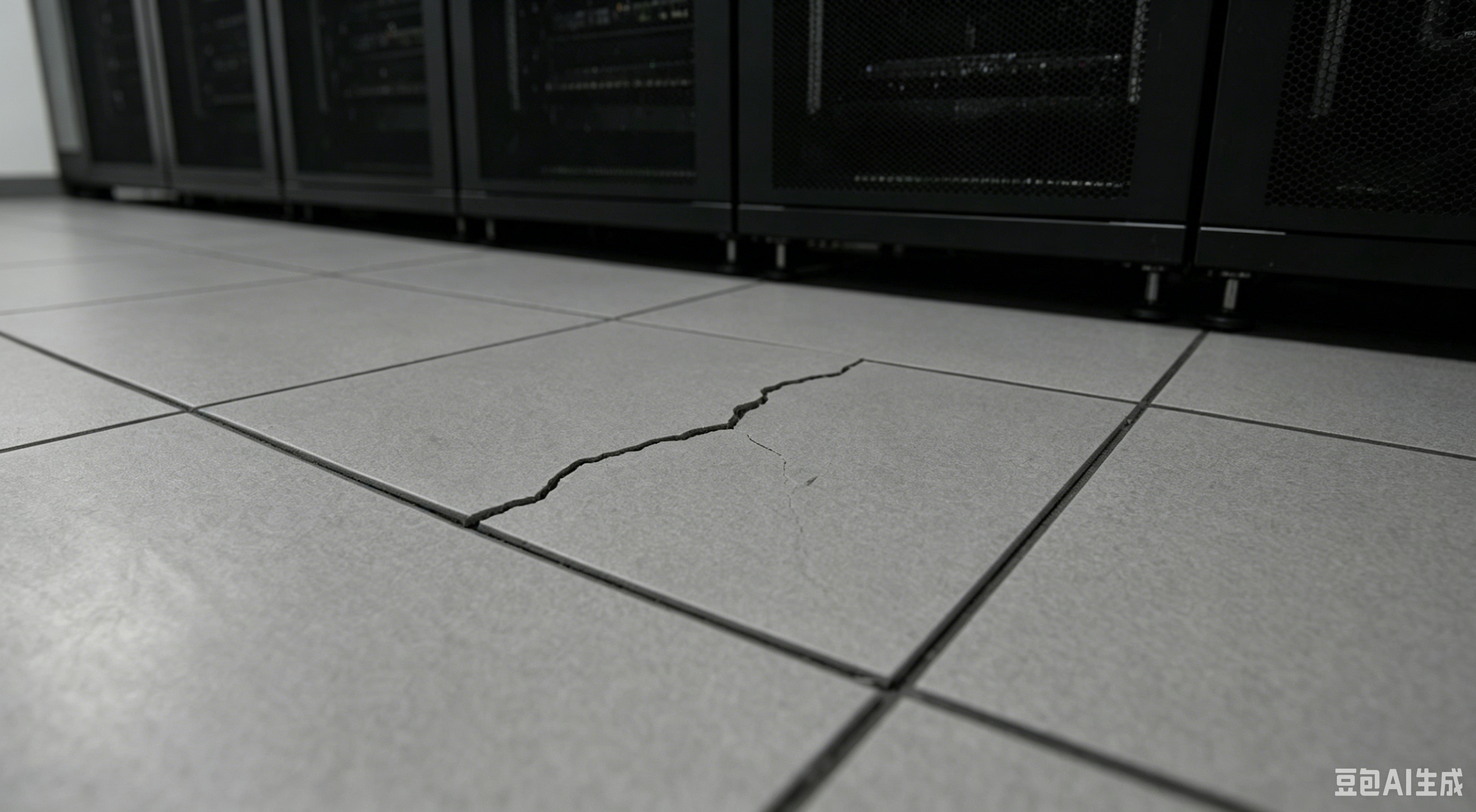floor_defect: (471, 438, 670, 540), (624, 393, 818, 444), (726, 346, 877, 394)
